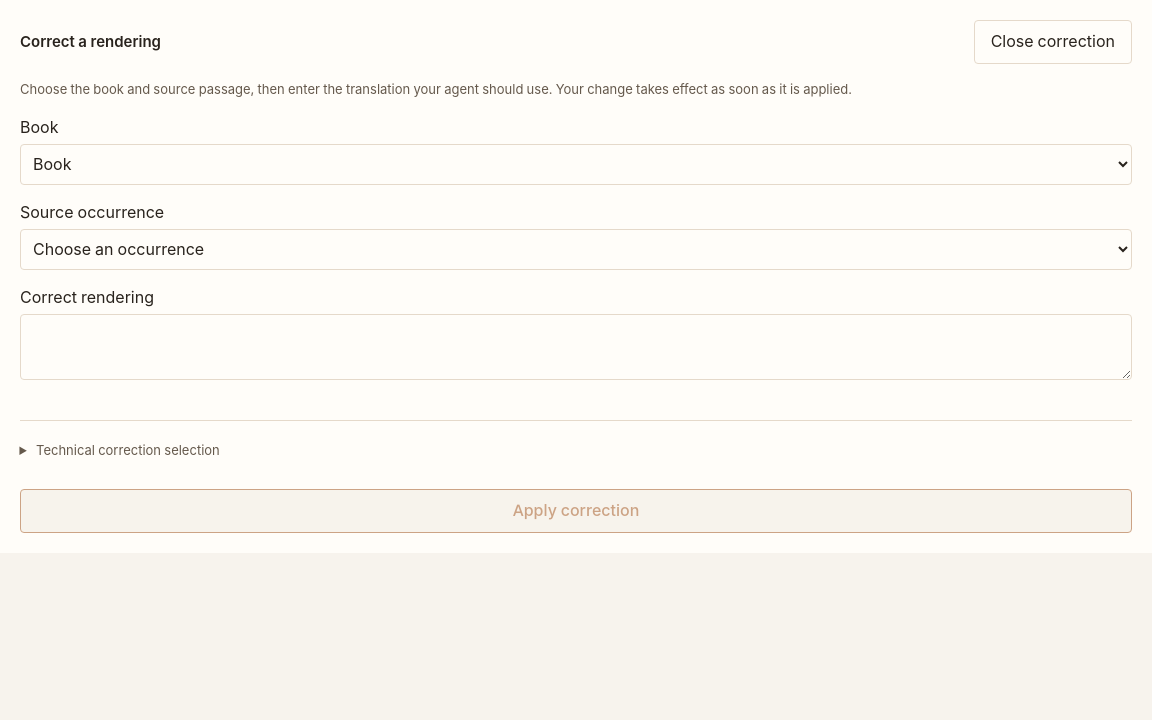
rendering requires actual occurrence and rule then displays current replacement
Select "Alex walks. · 1 · source.txt" in the dropdown labelled "Source occurrence" at [576, 249], box [20,228,1132,270]
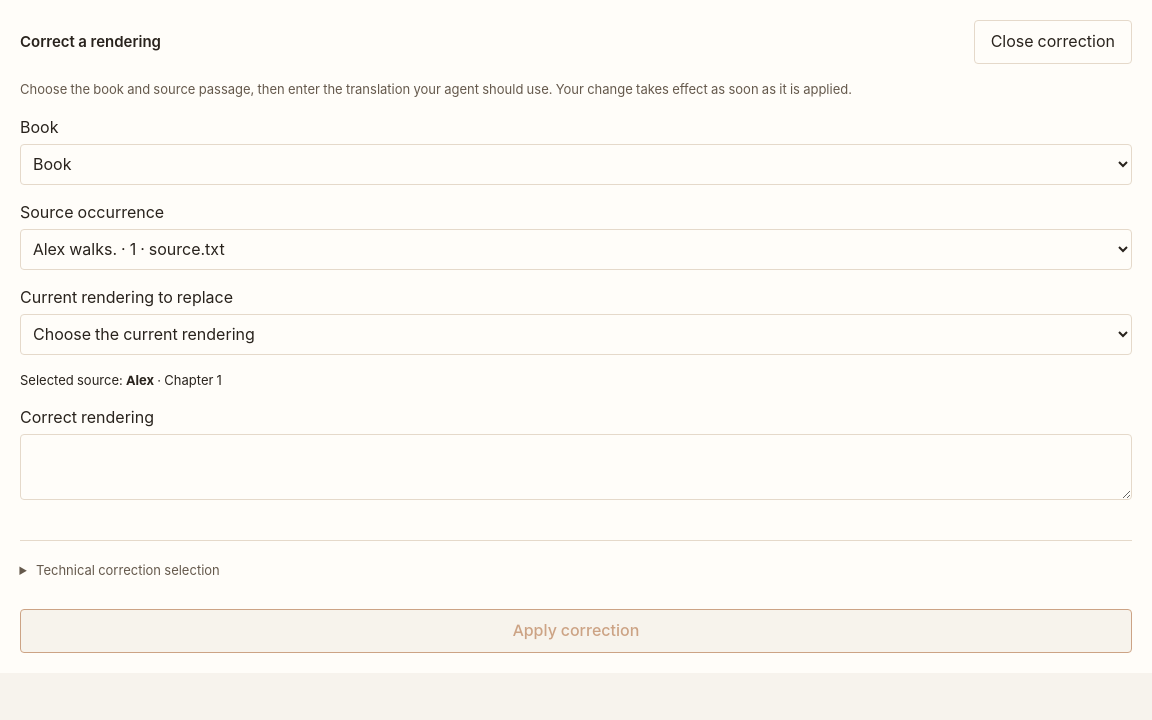
Now the text "Selected source: Alex · Chapter 1" is shown, box [20,372,222,388]
Type "B" into the text box labelled "Correct rendering" at [576, 467], box [20,434,1132,500]
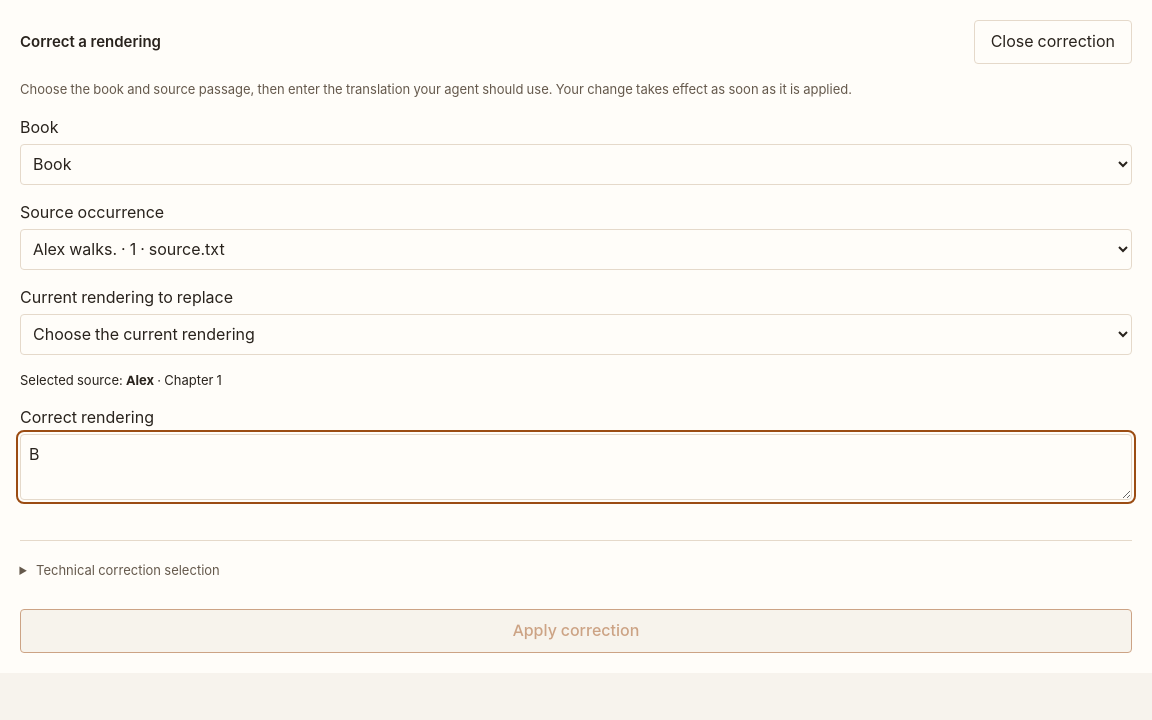
Expected: the button "Apply correction" is disabled, [20,609,1132,653]
Select "A" in the dropdown labelled "Current rendering to replace" at [576, 334], box [20,314,1132,354]
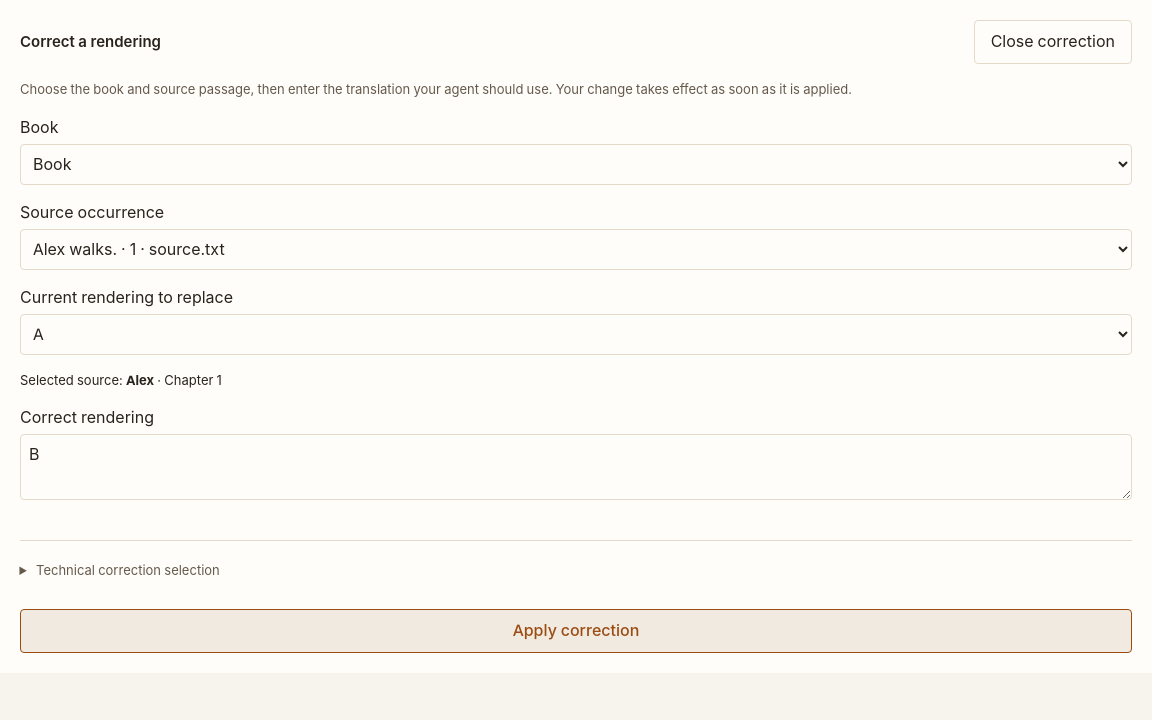
Now the button "Apply correction" is enabled
Click the button "Apply correction" at [576, 631], box [20,609,1132,653]
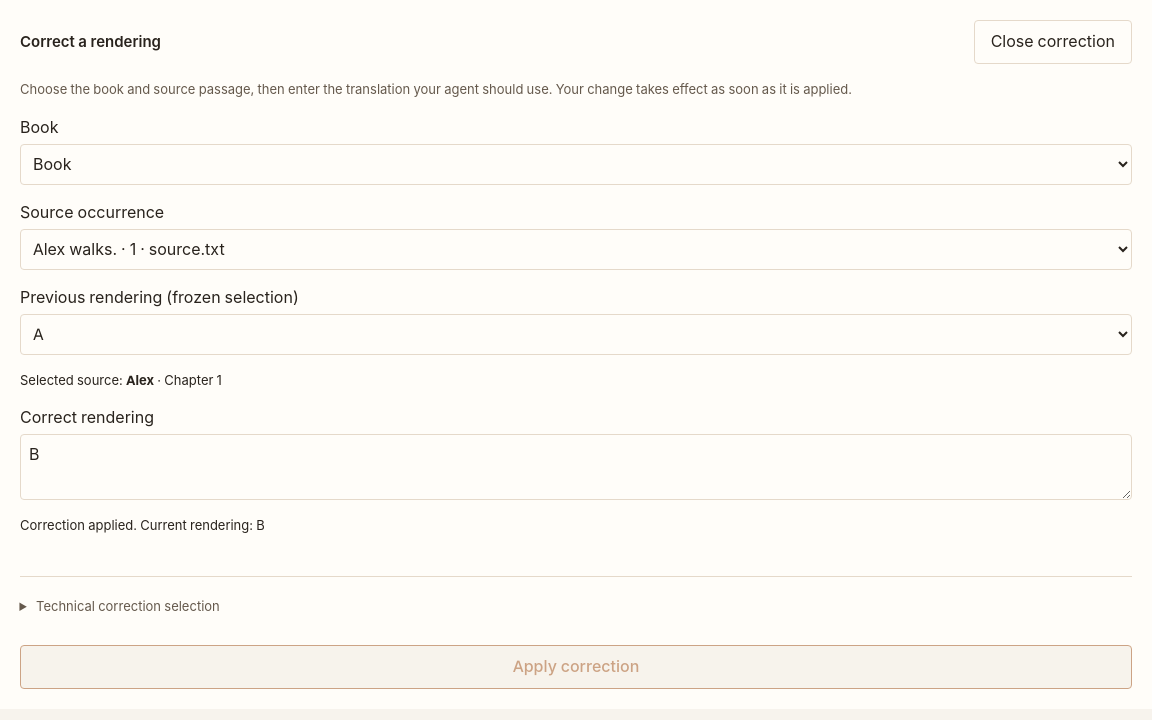
Now the text "Correction applied. Current rendering: B" is shown, box [20,517,265,534]
